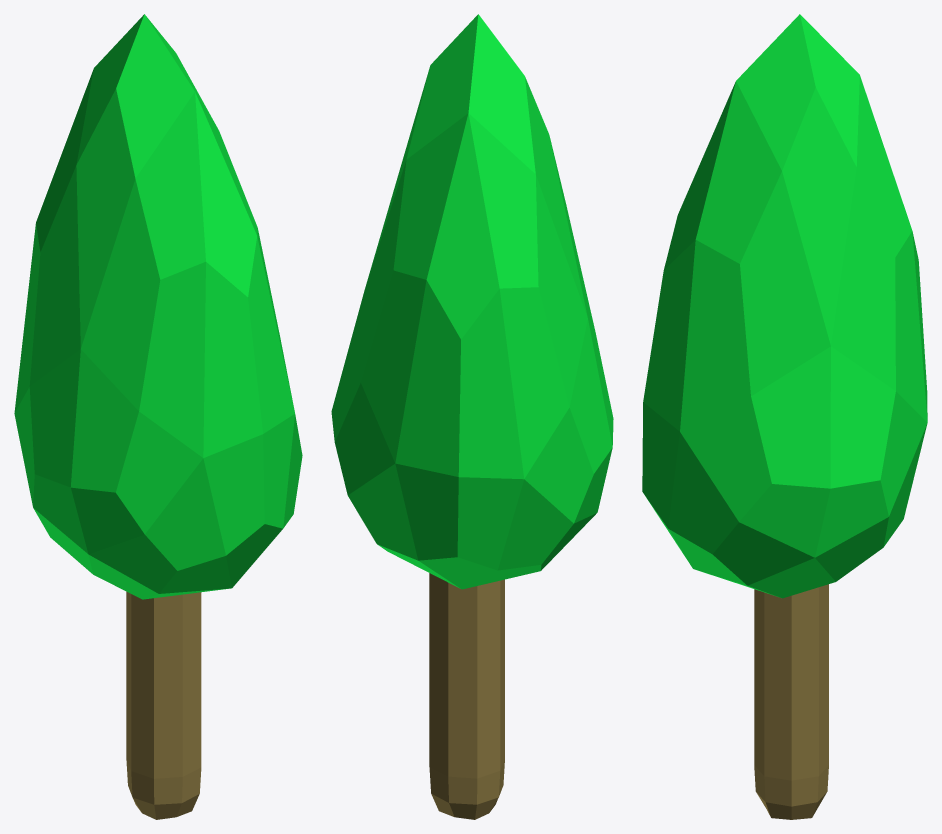
The model's file is Tree06.fbx.
3 views of the same model, side by side, from view 1: azimuth 30°, elevation 25°; view 2: azimuth 150°, elevation 25°; view 3: azimuth 270°, elevation 25° (orthographic).
Parts seen in each view (by area): view 1: Tree03; view 2: Tree03; view 3: Tree03.
Part boxes in pixels (bbox=[...]): Tree03: bbox=[14, 14, 302, 819]; Tree03: bbox=[331, 14, 613, 819]; Tree03: bbox=[642, 14, 927, 819].
Size of the model in its own units: 1.72 by 5.32 by 1.75.
